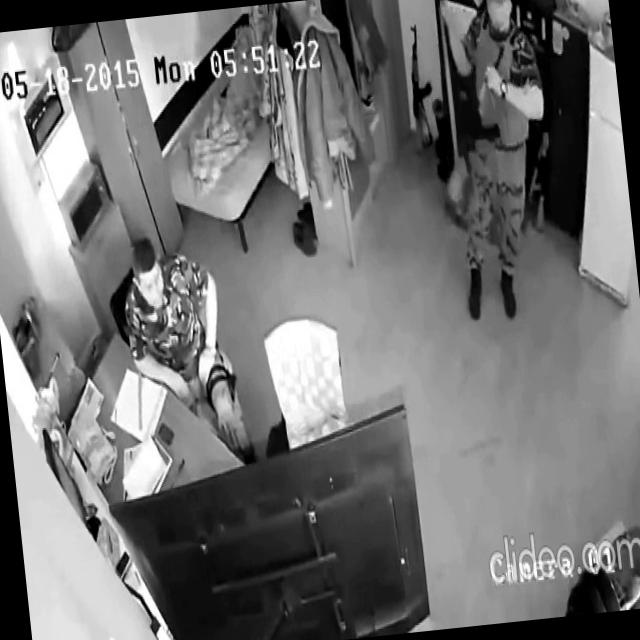gun: (432, 40, 522, 212), (399, 21, 440, 160)
person: (117, 224, 257, 475)
person with a gun: (425, 0, 563, 323)
